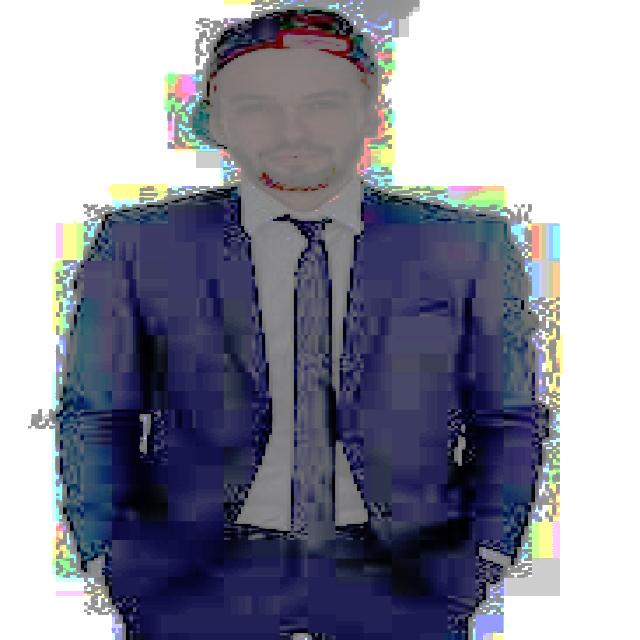TOPI: (178, 9, 388, 147)
